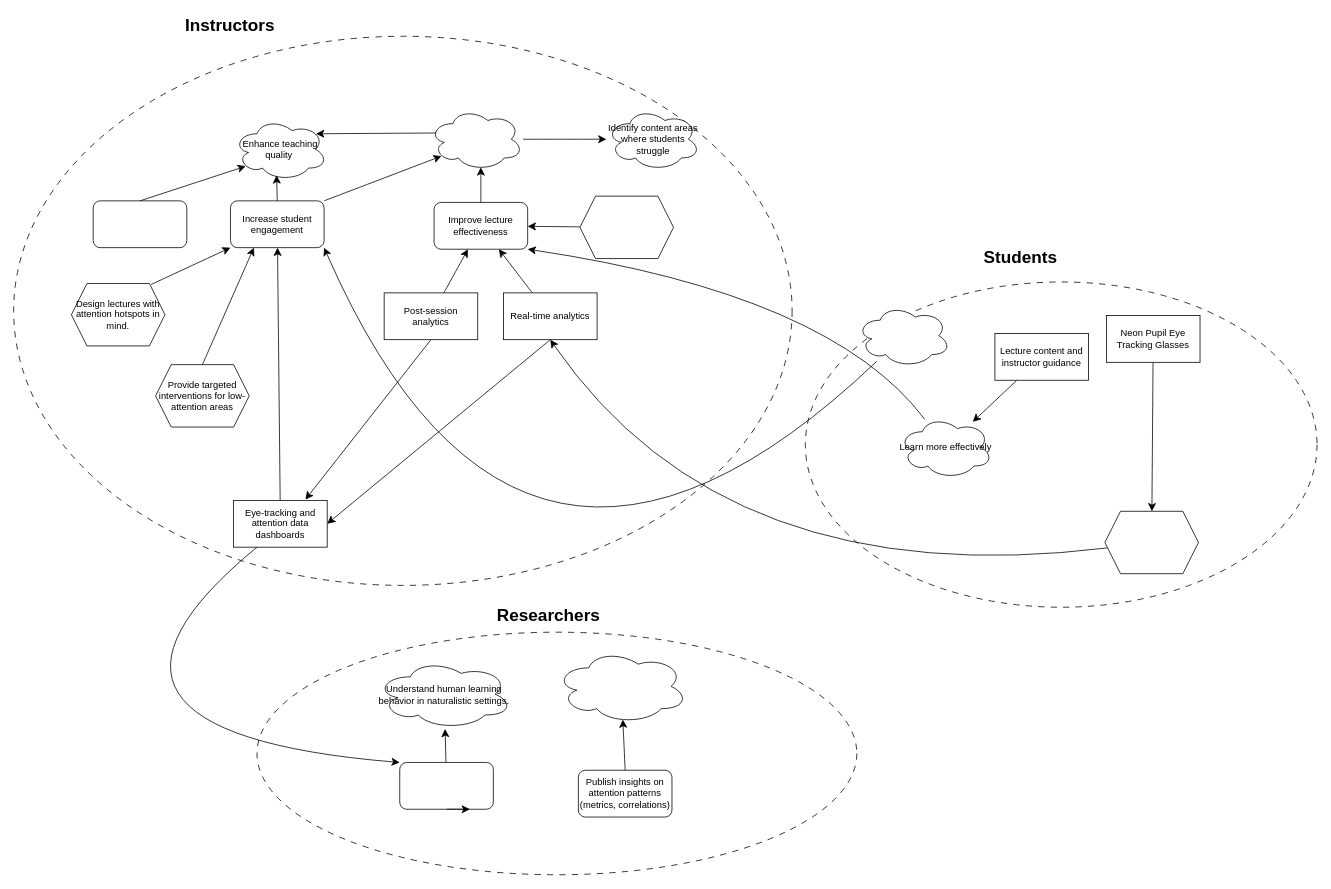
Some shapes in this 1331 by 889 pixel diagram are drawn without their labels. Each missing label, with the centre of its shape:
"Collect and analyze real-time gaze and attention data" goes at (446,785).
"Contribute to HCI knowledge" goes at (621,686).
"Encourage active participation and curiosity." goes at (476,138).
"Feel engaged and motivated" goes at (903,335).
"Review attention analytics post-lecture to adjust teaching methods" goes at (626,227).
"Track group attention patterns quantitatively" goes at (139,224).
"Wear eye-tracking glasses during class" goes at (1151,542).
